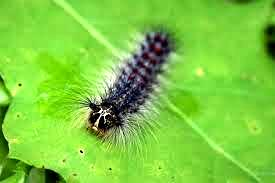Caterpillar: (82, 29, 179, 137)
